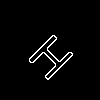H: (25, 25, 84, 84)
